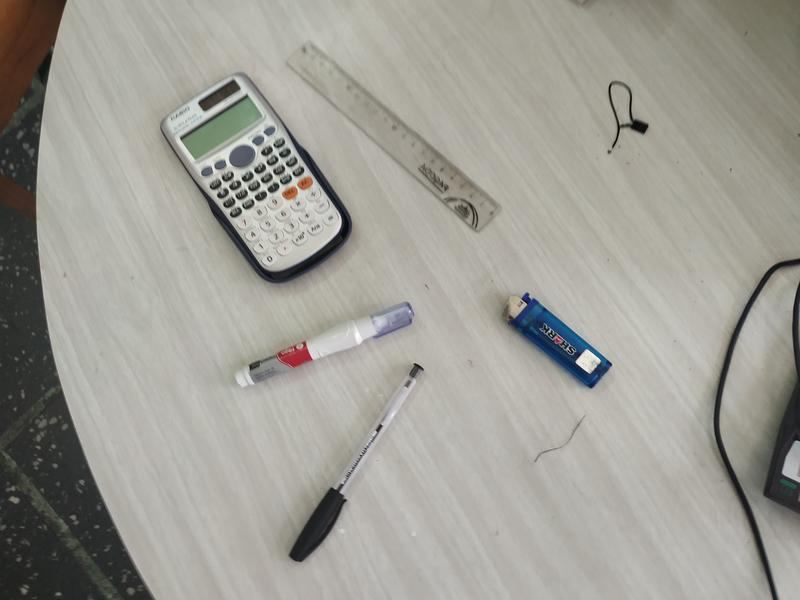calculadora: (156, 67, 361, 287)
corrector: (228, 293, 415, 401)
encendedor: (495, 281, 614, 393)
lapicera: (283, 350, 432, 568)
regla: (276, 27, 504, 235)
